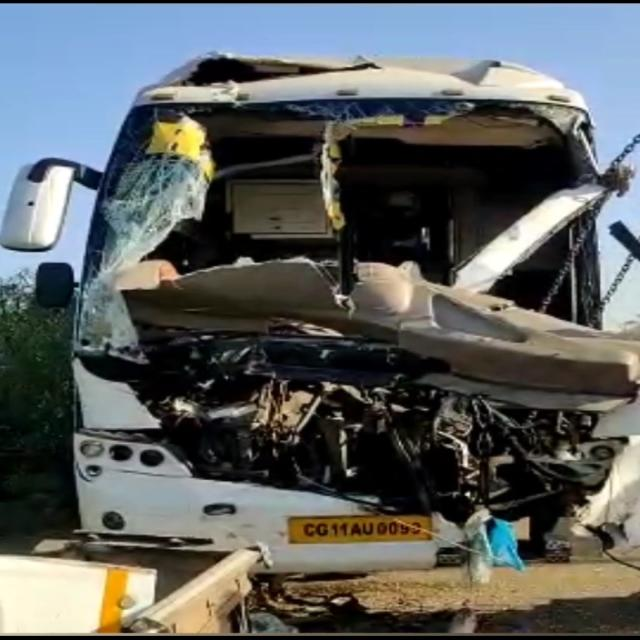accident: (3, 54, 638, 574)
